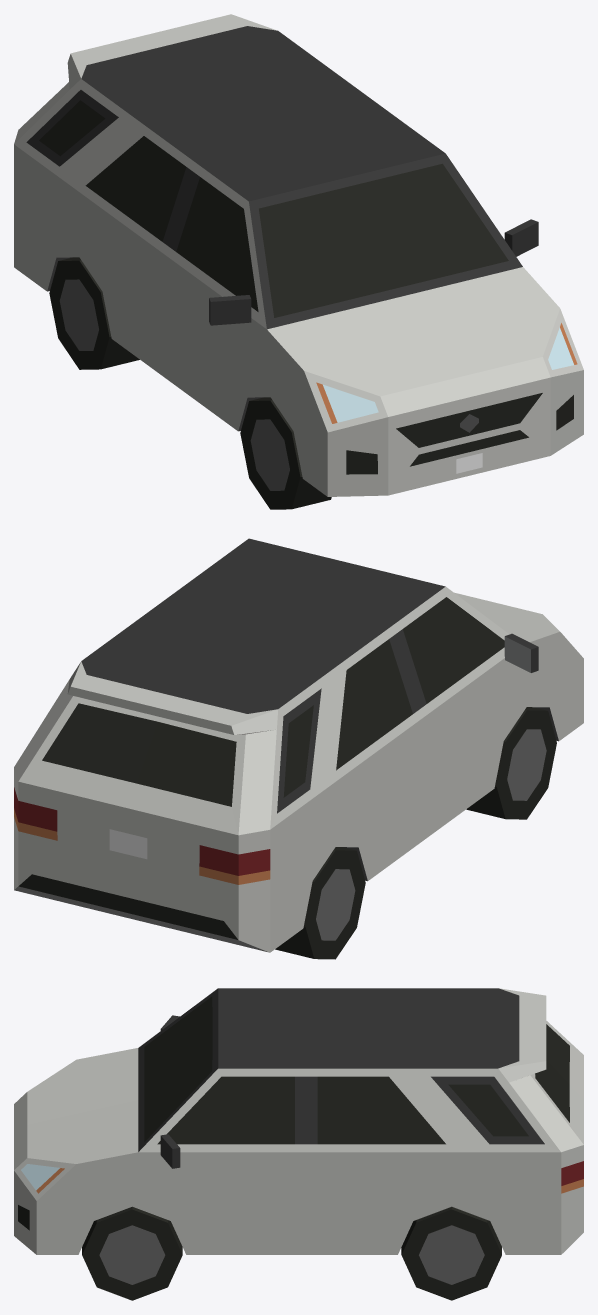
Rendered from Veh_SUV_01_White.obj.
3 renders of one model, top to bottom at view 1: azimuth 30°, elevation 25°; view 2: azimuth 150°, elevation 25°; view 3: azimuth 270°, elevation 25°, orthographic. The views are drawn at different scales.
Bounding box in the file's own units: 1.33 × 1.02 × 2.4.
